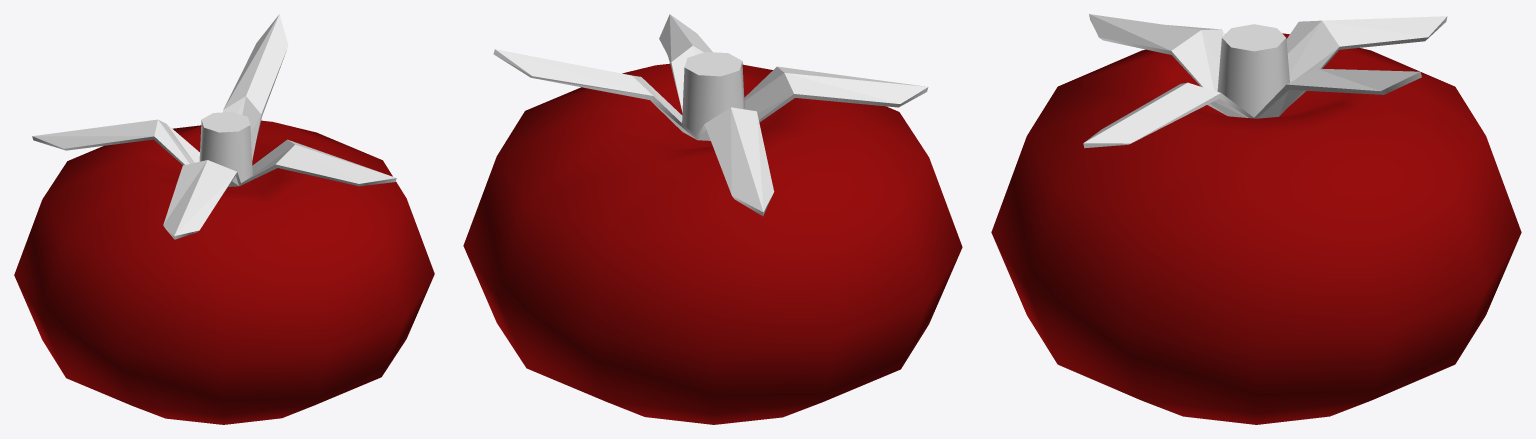
Rendered from tomaten.FBX.
The picture shows the model from 3 angles, left to right: view 1: azimuth 30°, elevation 25°; view 2: azimuth 150°, elevation 25°; view 3: azimuth 270°, elevation 25°; orthographic projection. The views are drawn at different scales.
Parts seen in each view (by area): view 1: Sphere001, Cylinder001; view 2: Sphere001, Cylinder001; view 3: Sphere001, Cylinder001.
Boxes of the visible parts, x1=… form: Sphere001: x1=14, y1=120, x2=434, y2=424; Cylinder001: x1=32, y1=14, x2=396, y2=239; Sphere001: x1=463, y1=63, x2=962, y2=424; Cylinder001: x1=493, y1=14, x2=928, y2=216; Sphere001: x1=991, y1=33, x2=1521, y2=424; Cylinder001: x1=1083, y1=14, x2=1447, y2=148.
Size of the model in its own units: 79.51 by 60.23 by 78.27.
